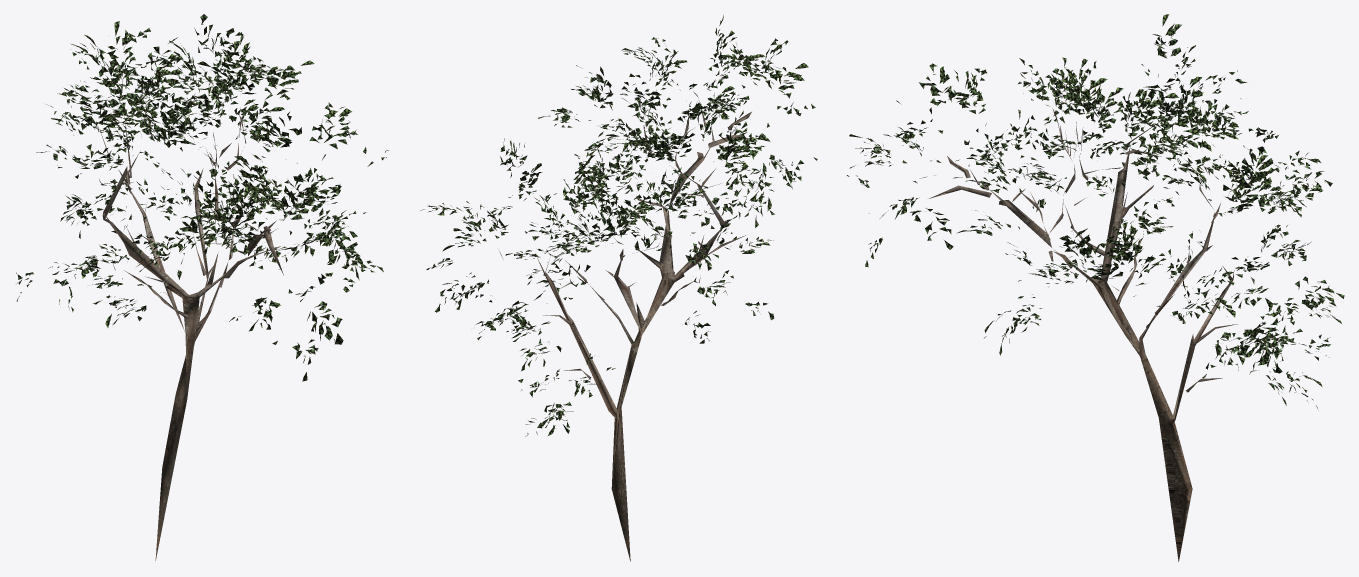
File: tree-small-02-lod2.glb
3 renders of one model, left to right at view 1: azimuth 30°, elevation 25°; view 2: azimuth 150°, elevation 25°; view 3: azimuth 270°, elevation 25°, orthographic. The views are drawn at different scales.
Parts seen in each view (by area): view 1: tree_small_02_LOD0; view 2: tree_small_02_LOD0; view 3: tree_small_02_LOD0.
Boxes of the visible parts, x1,y1,x2,y2 form: tree_small_02_LOD0: (16, 14, 388, 560); tree_small_02_LOD0: (420, 15, 817, 561); tree_small_02_LOD0: (846, 14, 1344, 561).
Size of the model in its own units: 2.86 by 4.54 by 4.04.
Materials: 3 (3 with a texture image).
